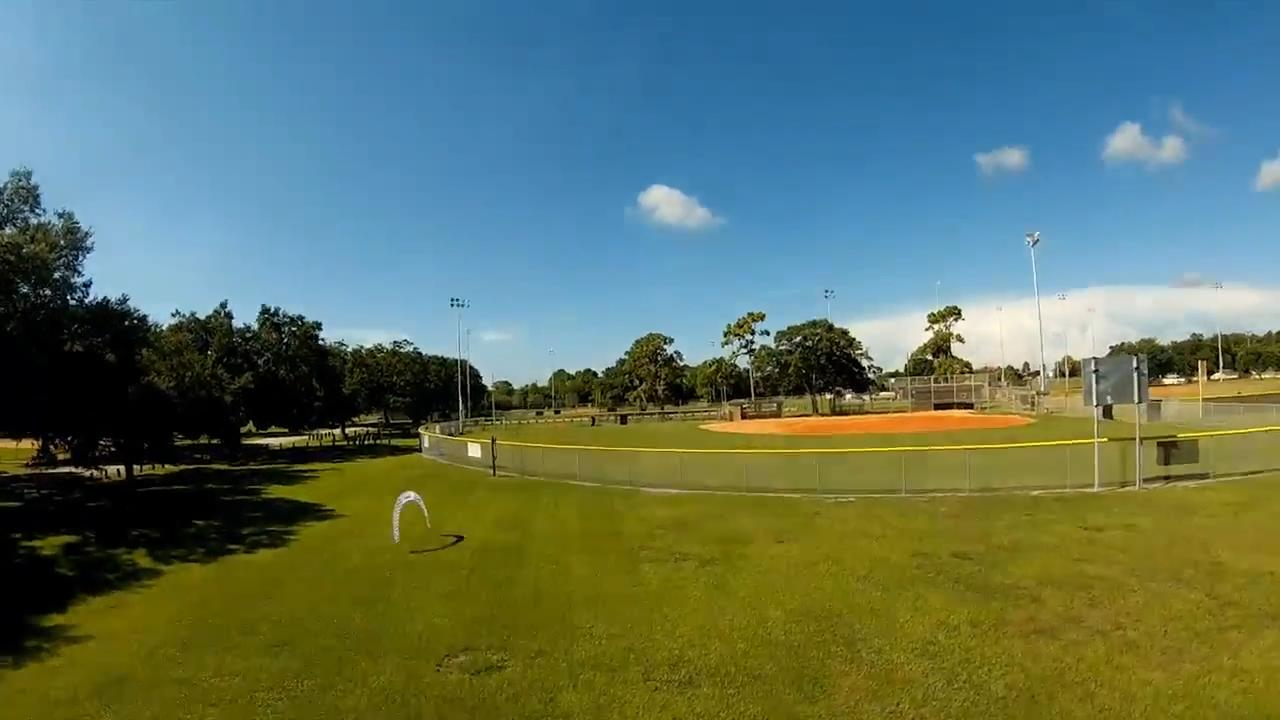gate: (391, 487, 433, 543)
